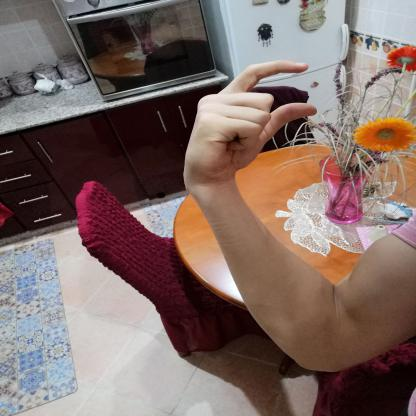DELL: (174, 51, 327, 193)
